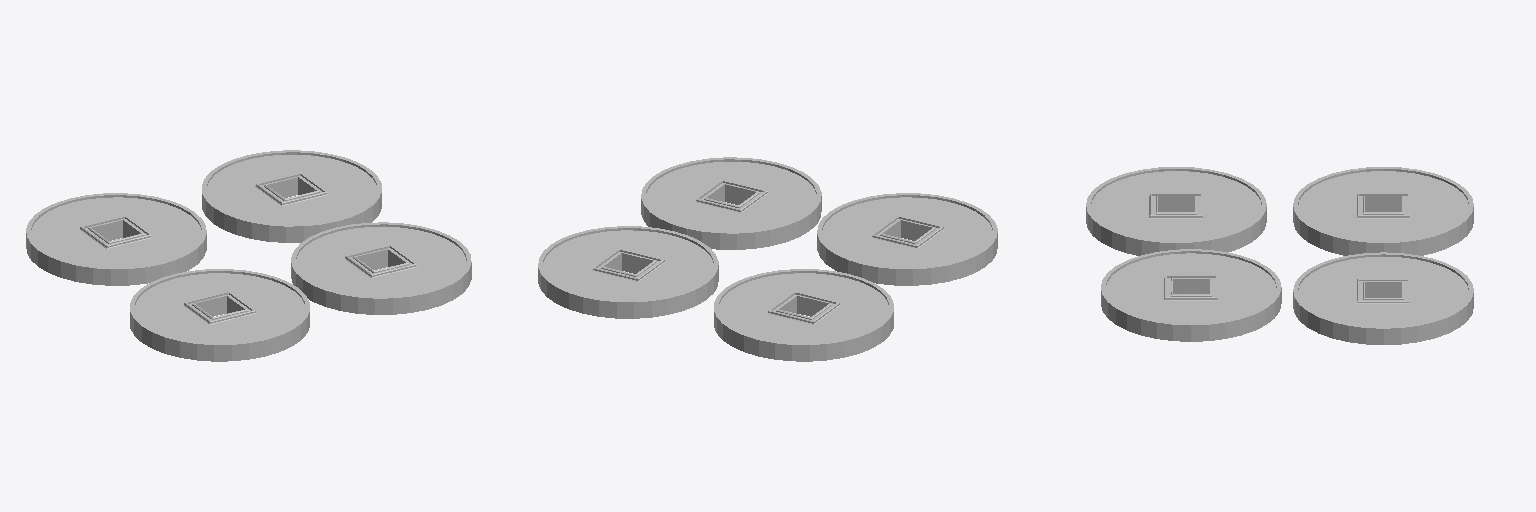
The model's file is coins 4 blender file 004.obj.
3 views of the same model, side by side, from view 1: azimuth 30°, elevation 25°; view 2: azimuth 150°, elevation 25°; view 3: azimuth 270°, elevation 25° (orthographic).
Visible parts, largest first — view 1: COIN_1_HIGH+.003, COIN_1_HIGH+.004, COIN_1_HIGH+.002, COIN_1_HIGH+; view 2: COIN_1_HIGH+, COIN_1_HIGH+.002, COIN_1_HIGH+.003, COIN_1_HIGH+.004; view 3: COIN_1_HIGH+.004, COIN_1_HIGH+, COIN_1_HIGH+.002, COIN_1_HIGH+.003.
Part boxes in pixels (x1,y1,x2,y2): COIN_1_HIGH+.003: (130, 269, 309, 361); COIN_1_HIGH+.004: (291, 222, 471, 314); COIN_1_HIGH+.002: (26, 193, 206, 285); COIN_1_HIGH+: (202, 150, 381, 242); COIN_1_HIGH+: (538, 226, 718, 318); COIN_1_HIGH+.002: (714, 269, 893, 361); COIN_1_HIGH+.003: (817, 193, 997, 285); COIN_1_HIGH+.004: (641, 157, 821, 249); COIN_1_HIGH+.004: (1101, 249, 1281, 341); COIN_1_HIGH+: (1293, 252, 1473, 344); COIN_1_HIGH+.002: (1293, 167, 1473, 255); COIN_1_HIGH+.003: (1086, 167, 1266, 255).
Size of the model in its own units: 4.22 by 0.2154 by 4.27.